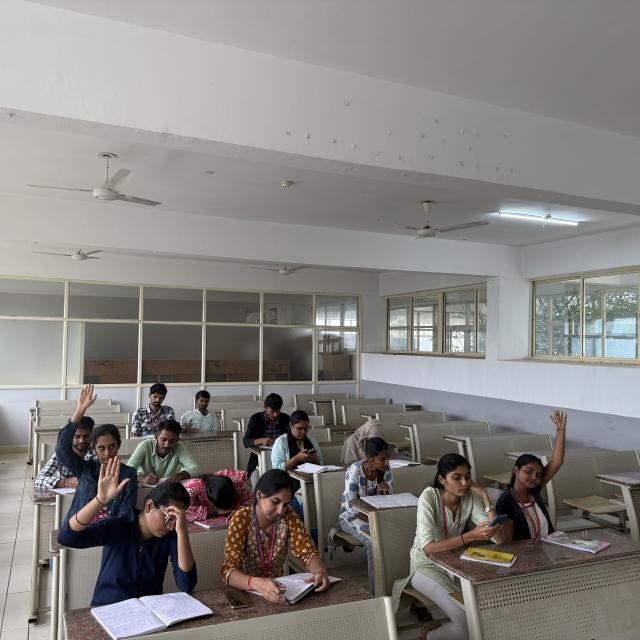Hand Rising: (52, 457, 197, 567), (498, 387, 592, 541), (38, 378, 136, 487)
Reading: (230, 472, 326, 586), (332, 433, 410, 515)
Sleeping: (175, 443, 262, 551)
Using Phone: (424, 436, 516, 546), (271, 412, 331, 473)
Writing: (131, 414, 205, 484), (117, 377, 167, 439)
